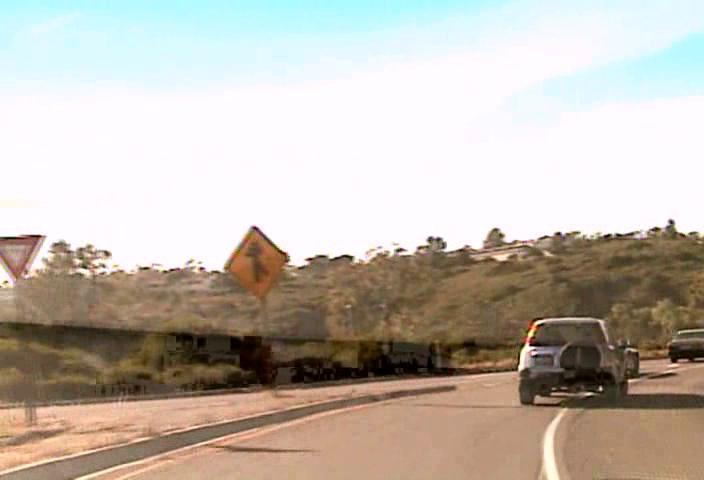merge: (223, 224, 288, 299)
